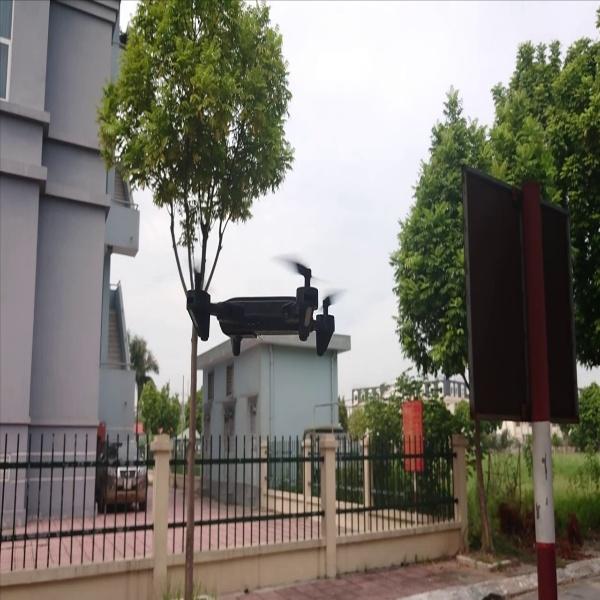drone: (181, 257, 342, 362)
